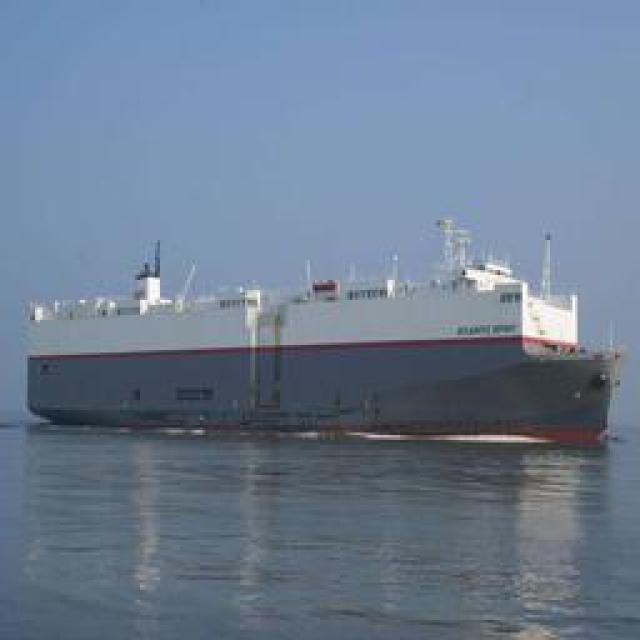Ship: (15, 231, 630, 444)
